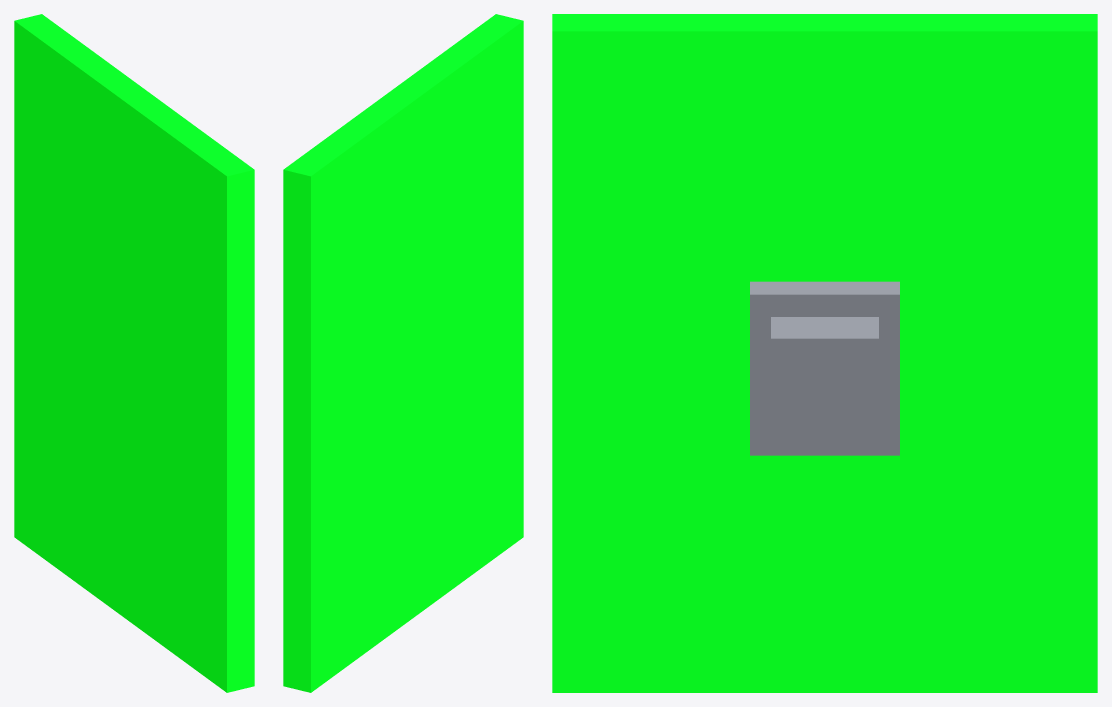
Rendered from flir.dae.
The picture shows the model from 3 angles, left to right: view 1: azimuth 30°, elevation 25°; view 2: azimuth 150°, elevation 25°; view 3: azimuth 270°, elevation 25°; orthographic projection. The views are drawn at different scales.
Parts seen in each view (by area): view 1: Cube_002; view 2: Cube_002; view 3: Cube_002.
Boxes of the visible parts, left/top/right/bottom form: Cube_002: left=14, top=14, right=254, bottom=692; Cube_002: left=283, top=14, right=523, bottom=692; Cube_002: left=552, top=14, right=1097, bottom=692.
Bounding box in the file's own units: 0.0045 × 0.02 × 0.0268.
